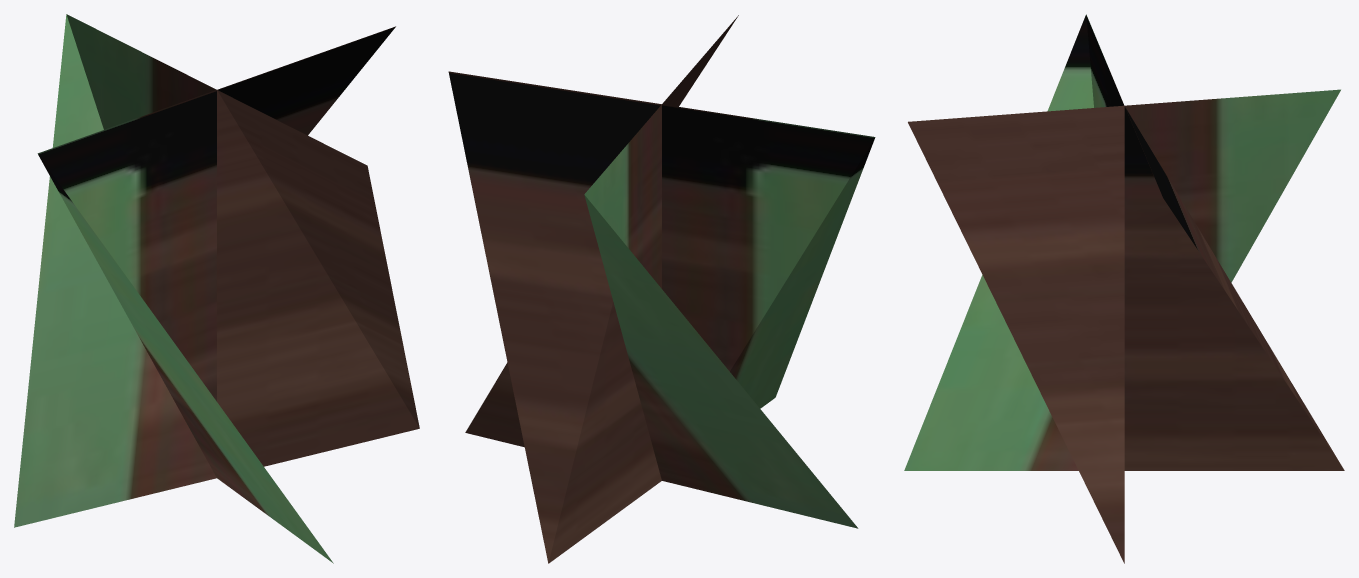
Rendered from Canyon_Sticks_2.glb.
The picture shows the model from 3 angles, left to right: view 1: azimuth 30°, elevation 25°; view 2: azimuth 150°, elevation 25°; view 3: azimuth 270°, elevation 25°; orthographic projection. The views are drawn at different scales.
Parts seen in each view (by area): view 1: Canyon_Sticks_2_0; view 2: Canyon_Sticks_2_0; view 3: Canyon_Sticks_2_0.
Part boxes in pixels (left/top/right/bottom): Canyon_Sticks_2_0: left=14, top=14, right=419, bottom=563; Canyon_Sticks_2_0: left=448, top=15, right=875, bottom=563; Canyon_Sticks_2_0: left=904, top=14, right=1344, bottom=563.
Bounding box in the file's own units: 1.16 × 1.06 × 1.16.
Materials: 1 (1 with a texture image).
